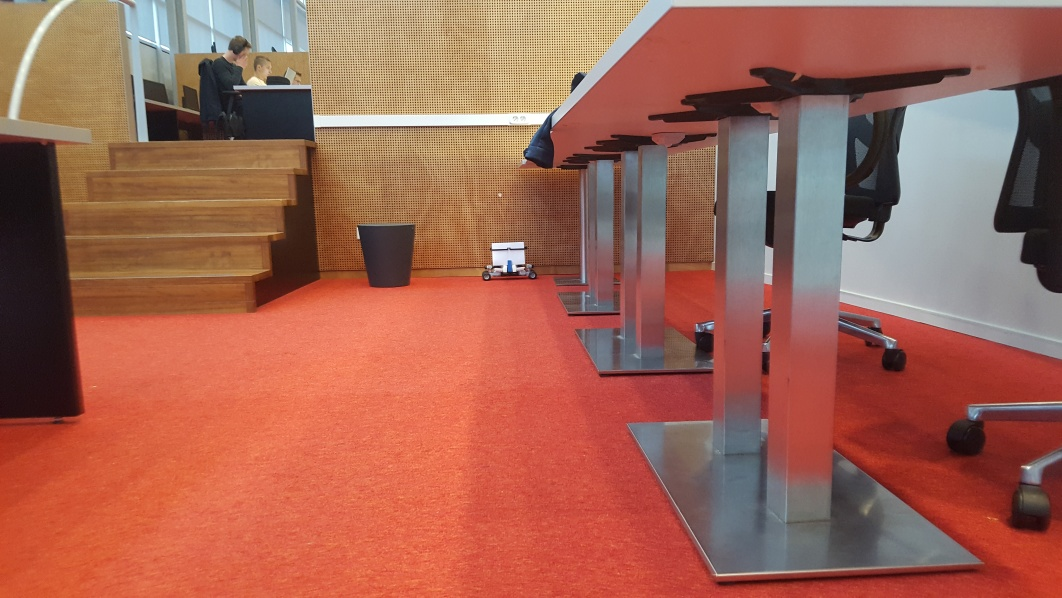car: (481, 240, 536, 285)
